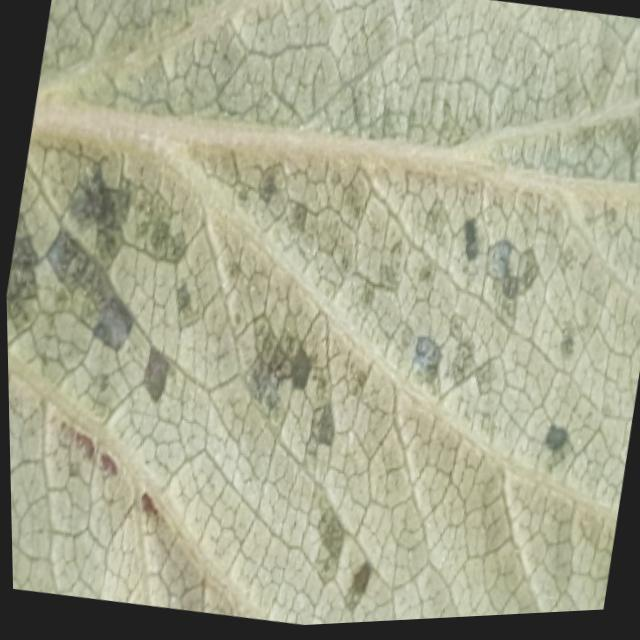Angular Leafspot: (5, 129, 640, 625)
